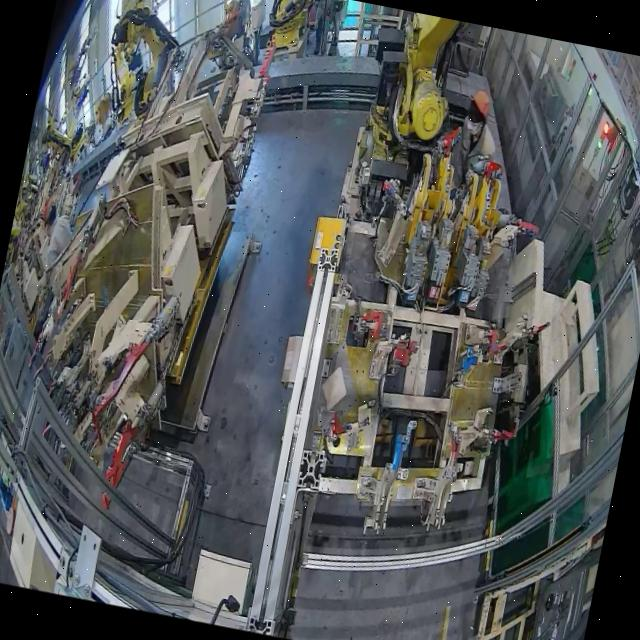Person: (444, 87, 506, 195), (35, 202, 78, 272)
